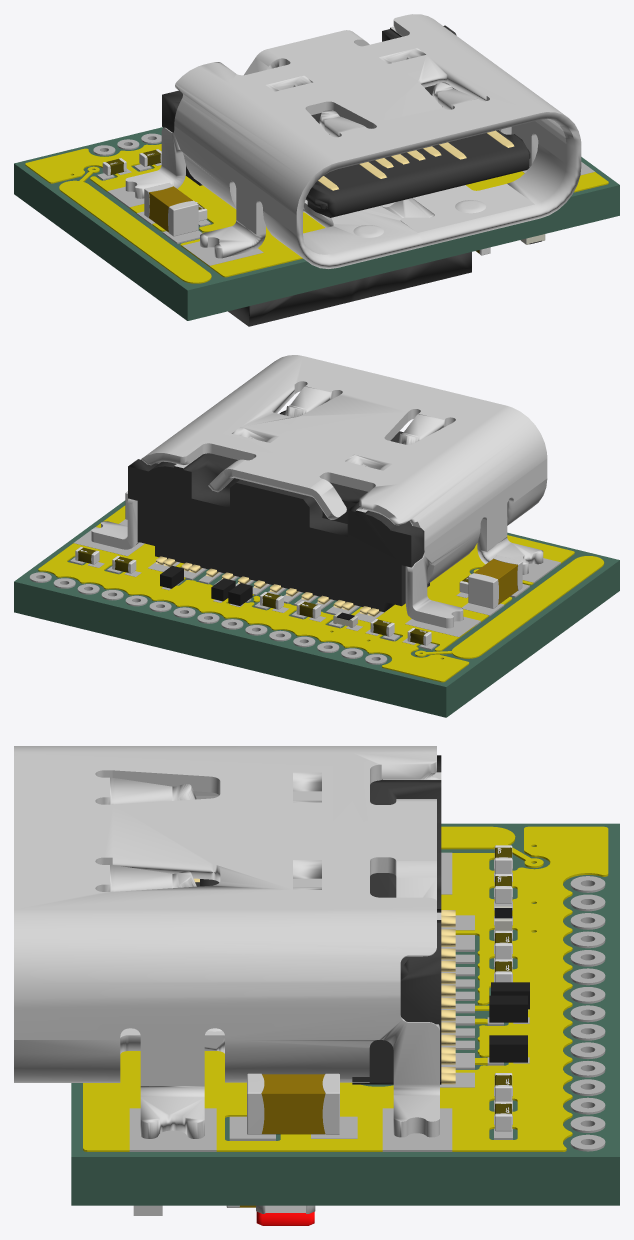
File: meenie.glb
3 renders of one model, top to bottom at view 1: azimuth 30°, elevation 25°; view 2: azimuth 150°, elevation 25°; view 3: azimuth 270°, elevation 25°, orthographic. The views are drawn at different scales.
Parts seen in each view (by area): view 1: =>[0:1:1:5], =>[0:1:1:33], =>[0:1:1:30], =>[0:1:1:23], =>[0:1:1:31], =>[0:1:1:12]; view 2: =>[0:1:1:5], =>[0:1:1:33], =>[0:1:1:30], =>[0:1:1:31], =>[0:1:1:12]; view 3: =>[0:1:1:5], =>[0:1:1:33], =>[0:1:1:30], =>[0:1:1:31], =>[0:1:1:12], DFN0603-2L_generic_max (Shell) (×2), =>[0:1:1:27].
Boxes of the visible parts, x1,y1,x2,y2 form: =>[0:1:1:5]: (125,14,581,268); =>[0:1:1:33]: (14,127,619,320); =>[0:1:1:30]: (25,144,608,283); =>[0:1:1:23]: (228,252,471,326); =>[0:1:1:31]: (93,133,594,265); =>[0:1:1:12]: (144,183,198,236); =>[0:1:1:5]: (91,355,547,628); =>[0:1:1:33]: (14,500,619,717); =>[0:1:1:30]: (38,505,604,682); =>[0:1:1:31]: (29,519,560,664); =>[0:1:1:12]: (468,555,522,608); =>[0:1:1:5]: (14,746,455,1138); =>[0:1:1:33]: (71,823,619,1205); =>[0:1:1:30]: (83,826,608,1151); =>[0:1:1:31]: (129,852,605,1151); =>[0:1:1:12]: (247,1073,339,1134); DFN0603-2L_generic_max (Shell) (×2): (489,995,527,1062); =>[0:1:1:27]: (256,1205,315,1225).
Size of the model in its own units: 0.0136 by 0.00515 by 0.0104.
